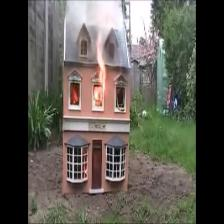fire: (94, 44, 107, 103)
